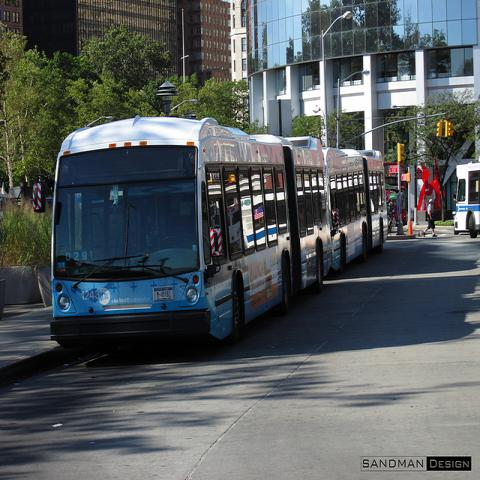bus: (47, 115, 298, 357), (323, 146, 372, 274), (363, 150, 389, 251), (452, 162, 480, 242)
